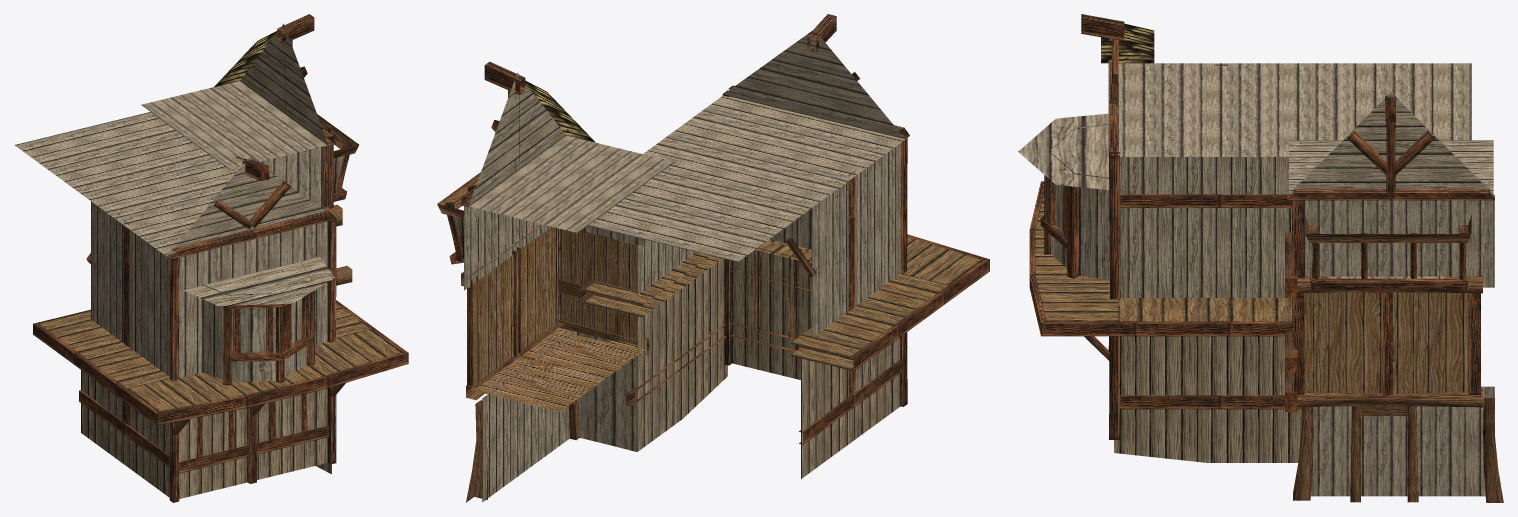
Rendered from LAKETOWN_EXTERIOR_PS_LT_CORNERHOUSE99__GX.fbx.
3 renders of one model, left to right at view 1: azimuth 30°, elevation 25°; view 2: azimuth 150°, elevation 25°; view 3: azimuth 270°, elevation 25°, orthographic. The views are drawn at different scales.
Visible parts, largest first — view 1: LAKETOWN_EXTERIOR_PS_LT_CORNERHOUSE99__GX; view 2: LAKETOWN_EXTERIOR_PS_LT_CORNERHOUSE99__GX; view 3: LAKETOWN_EXTERIOR_PS_LT_CORNERHOUSE99__GX.
Part boxes in pixels (x1,y1,x2,y2): LAKETOWN_EXTERIOR_PS_LT_CORNERHOUSE99__GX: [14, 14, 408, 502]; LAKETOWN_EXTERIOR_PS_LT_CORNERHOUSE99__GX: [437, 14, 989, 502]; LAKETOWN_EXTERIOR_PS_LT_CORNERHOUSE99__GX: [1018, 14, 1503, 502].
Size of the model in its own units: 103223 by 111033 by 118339.
Materials: 9 (9 with a texture image).
